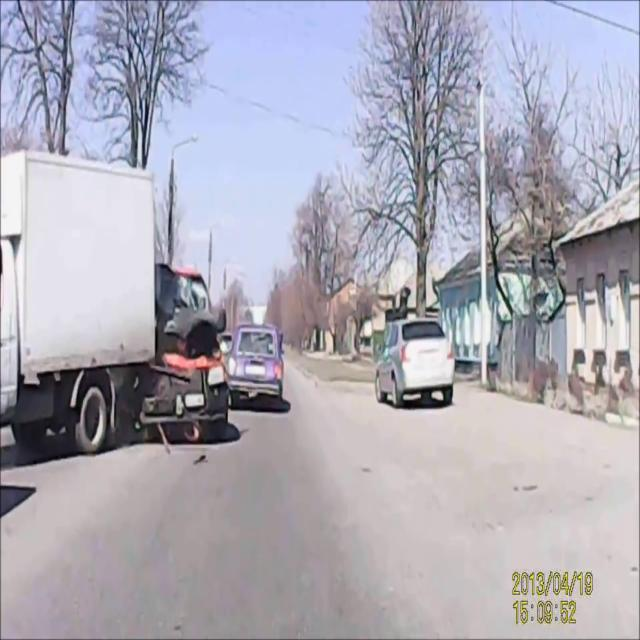accident: (105, 215, 242, 452)
